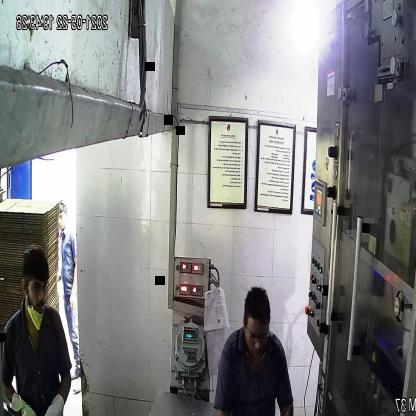goggles: (241, 323, 273, 349)
no_goggles: (26, 279, 51, 297)
